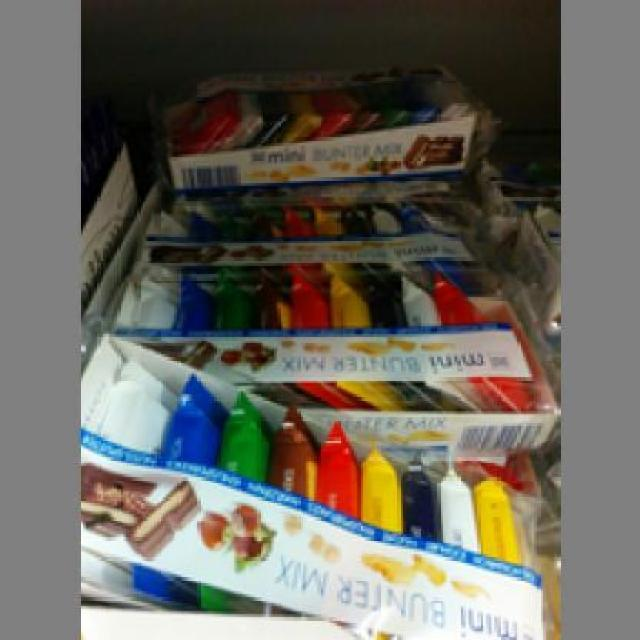Chocolate: (77, 328, 557, 638), (94, 272, 560, 454), (162, 74, 475, 186), (109, 206, 498, 280)
